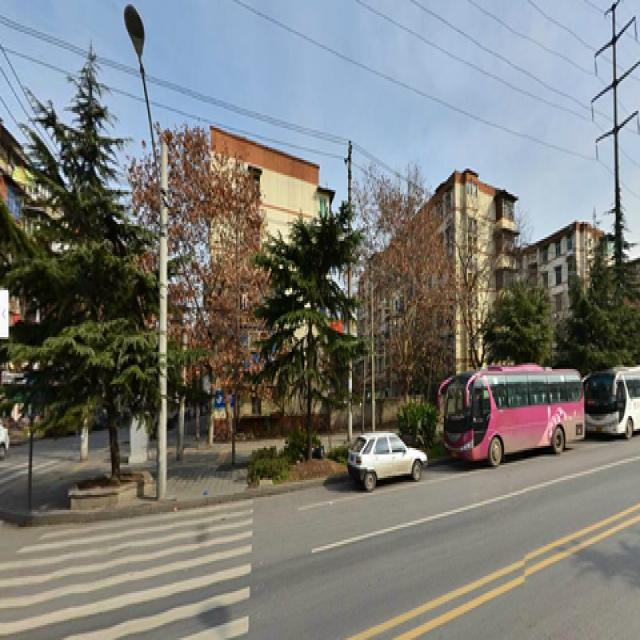cedr: (19, 51, 154, 499), (266, 209, 354, 452)
